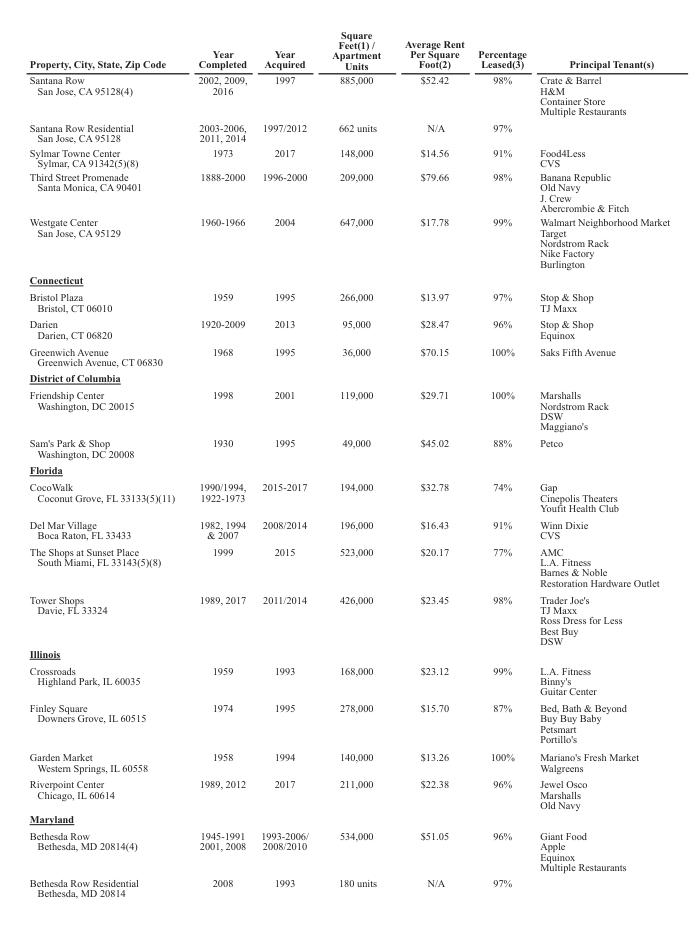table: (28, 28, 669, 898)
table column: (28, 28, 185, 898), (532, 28, 669, 898), (392, 28, 470, 898), (319, 28, 392, 898), (185, 28, 253, 898), (253, 28, 319, 898), (470, 28, 532, 898)
table column header: (28, 28, 669, 72)
table projected row header: (28, 271, 669, 288), (28, 369, 669, 386), (28, 461, 669, 478), (28, 811, 669, 827), (28, 646, 669, 661)
table row: (28, 214, 669, 271), (28, 590, 669, 646), (28, 386, 669, 434), (28, 542, 669, 590), (28, 699, 669, 747), (28, 72, 669, 119), (28, 827, 669, 874), (28, 169, 669, 214), (28, 28, 669, 72), (28, 661, 669, 699), (28, 478, 669, 515), (28, 775, 669, 811), (28, 747, 669, 775), (28, 288, 669, 315), (28, 315, 669, 342), (28, 342, 669, 369), (28, 434, 669, 461), (28, 515, 669, 542), (28, 119, 669, 144), (28, 144, 669, 169), (28, 874, 669, 898), (28, 271, 669, 288), (28, 369, 669, 386), (28, 461, 669, 478), (28, 811, 669, 827), (28, 646, 669, 661)
